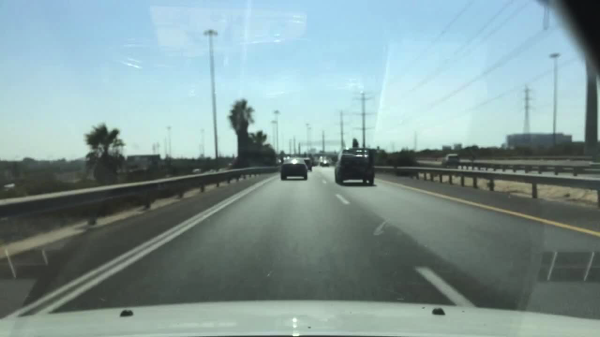car: (334, 150, 375, 185), (350, 147, 376, 185), (279, 159, 308, 181), (303, 157, 315, 173), (445, 154, 461, 162), (279, 154, 290, 163), (191, 167, 203, 172), (323, 159, 330, 166), (318, 159, 324, 166)
